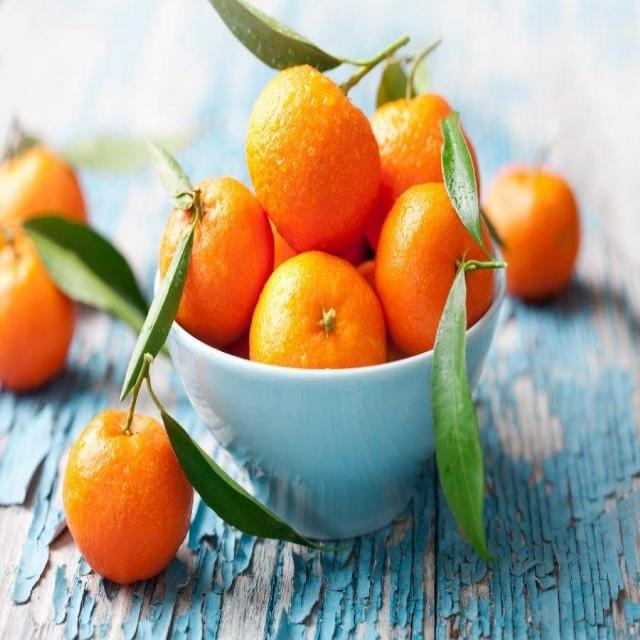10_tangerine: (60, 400, 198, 596), (248, 58, 376, 254), (376, 179, 494, 357), (160, 178, 277, 350), (243, 250, 384, 380)
